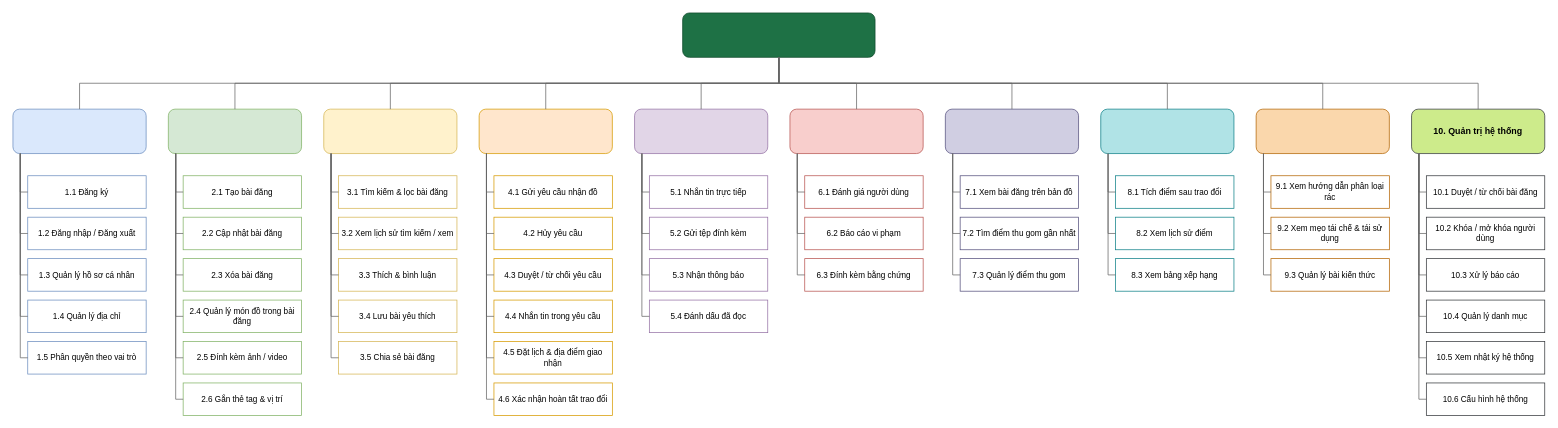
This 1558x428 diagram has some shape labels left out. The shapes that lost their labels are listed below. From the top down, each one's centre as x and y in pixels, then its label:
At point (778, 34): "RECYCLING SHARE APP Ứng dụng chia sẻ đồ tái chế".
At point (79, 131): "1. Quản lý tài khoản & phân quyền".
At point (235, 131): "2. Quản lý bài đăng đồ tái chế".
At point (390, 131): "3. Tìm kiếm & tương tác".
At point (545, 131): "4. Yêu cầu & trao đổi".
At point (701, 131): "5. Chat & thông báo".
At point (856, 131): "6. Đánh giá & báo cáo".
At point (1012, 131): "7. Bản đồ & điểm thu gom".
At point (1167, 131): "8. Điểm xanh".
At point (1322, 131): "9. Kiến thức tái chế".
